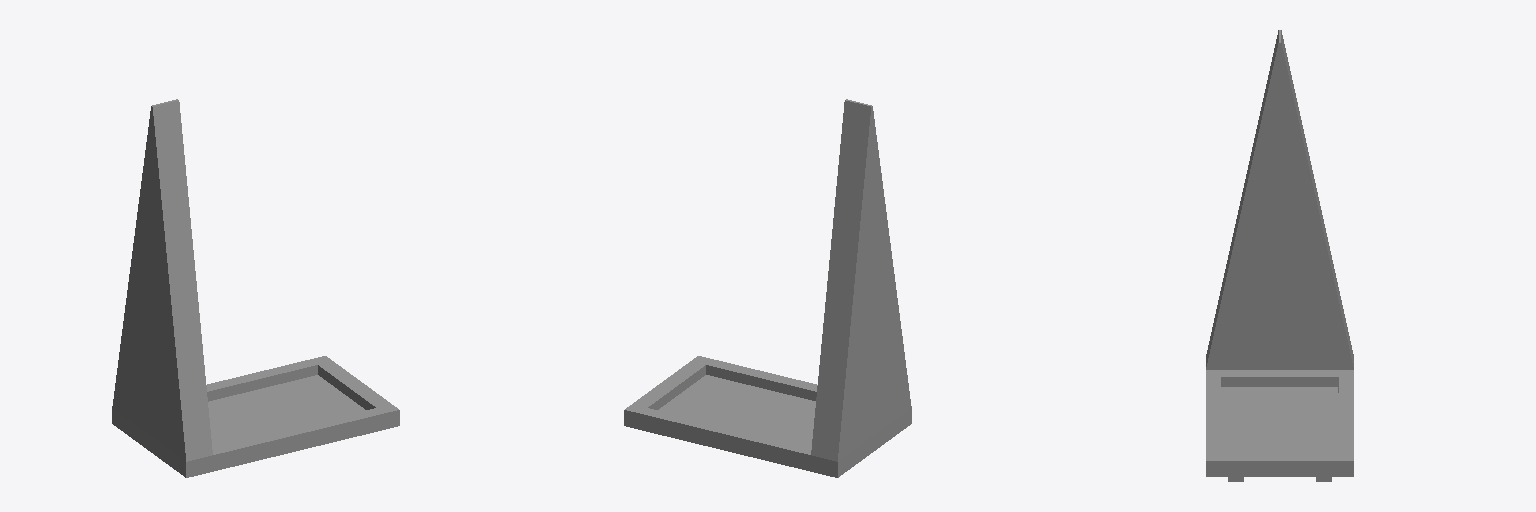
File: podstavka.obj
3 views of the same model, side by side, from view 1: azimuth 30°, elevation 25°; view 2: azimuth 150°, elevation 25°; view 3: azimuth 270°, elevation 25° (orthographic).
Parts seen in each view (by area): view 1: kvaka2_Cube.000; view 2: kvaka2_Cube.000; view 3: kvaka2_Cube.000.
Part boxes in pixels (left/top/right/bottom): kvaka2_Cube.000: left=112, top=99, right=399, bottom=477; kvaka2_Cube.000: left=624, top=99, right=911, bottom=477; kvaka2_Cube.000: left=1206, top=30, right=1353, bottom=481.
Size of the model in its own units: 1.12 by 1.76 by 0.6748.